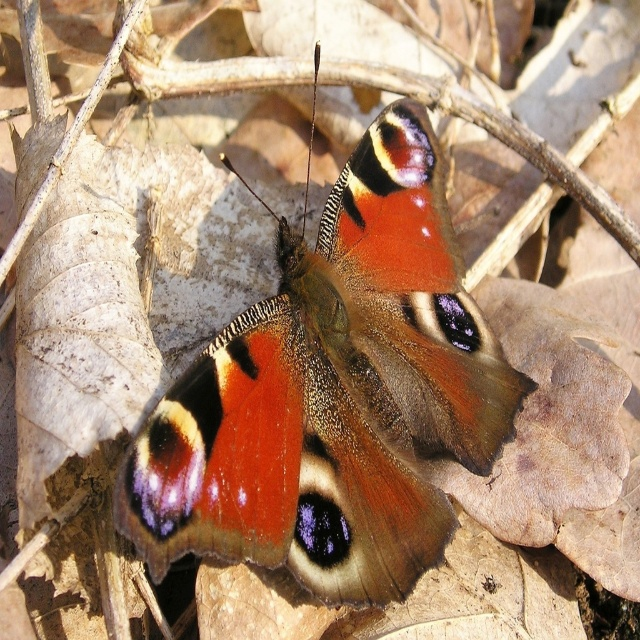Butterfly: (113, 43, 537, 609)
